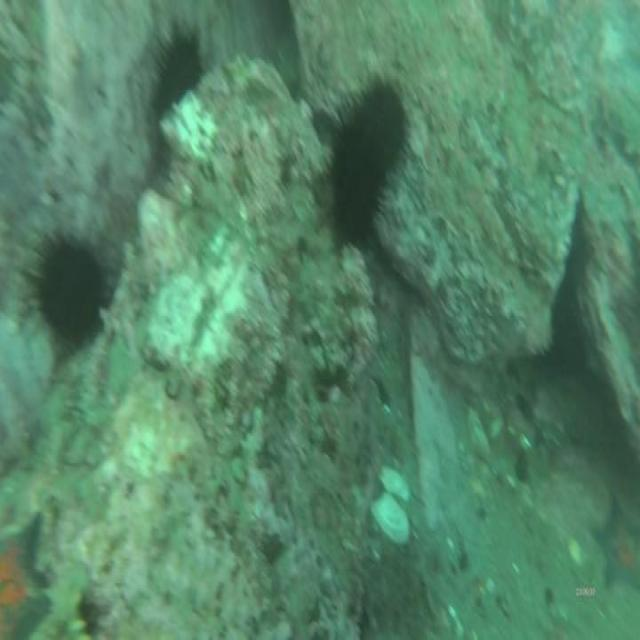echinus: (31, 221, 110, 357), (323, 119, 393, 256), (148, 13, 207, 142), (355, 70, 409, 172)
scallop: (371, 458, 417, 553)
starfish: (0, 507, 58, 640), (588, 483, 640, 598)
